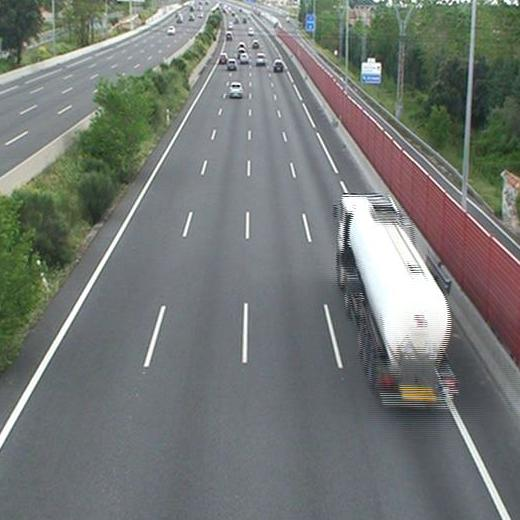car: (229, 82, 242, 98), (255, 53, 266, 65), (226, 59, 236, 69), (239, 53, 249, 63), (274, 61, 283, 71), (219, 53, 228, 62)
tank-truck: (337, 195, 454, 406)
